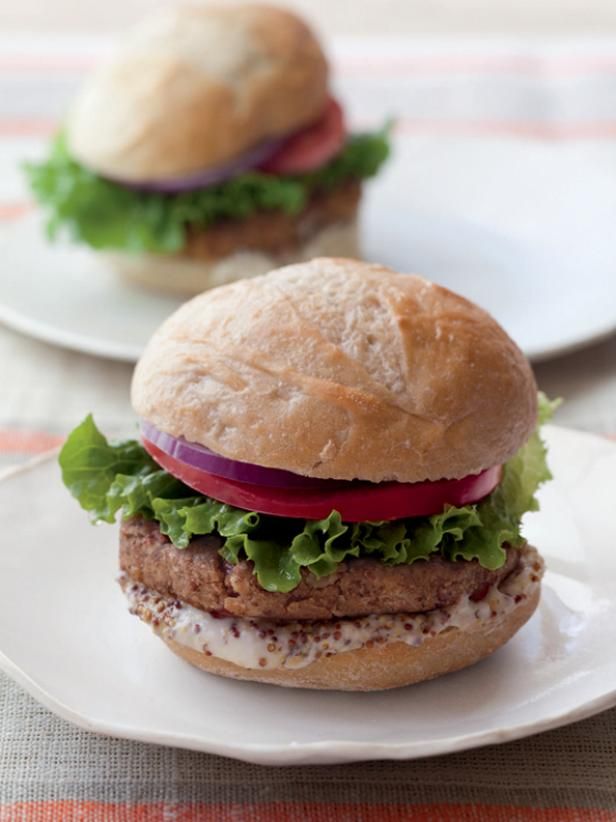hamburger_buns: (103, 248, 564, 466), (115, 595, 590, 709), (69, 2, 345, 176)
